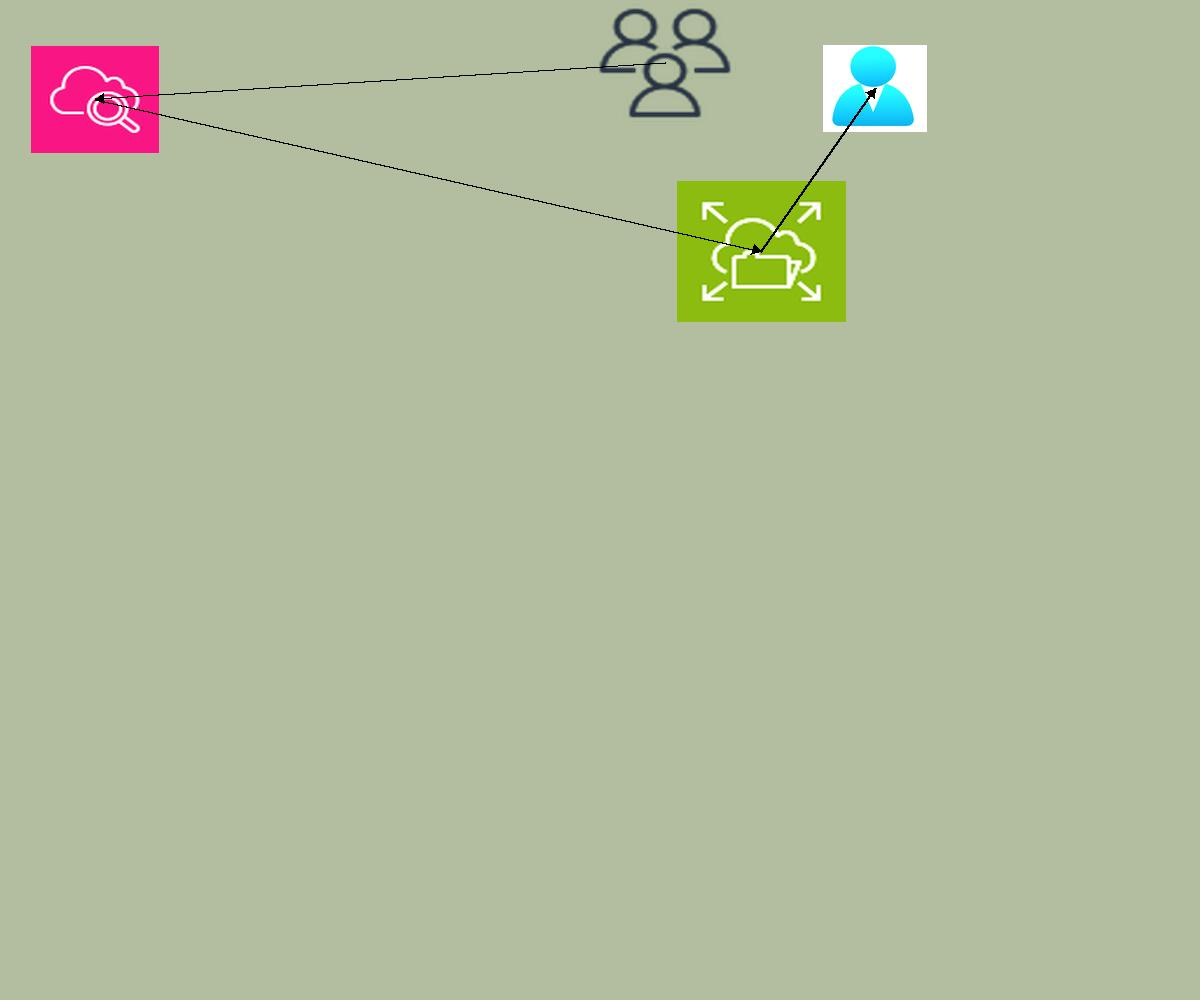AWS-CloudWatch: (31, 46, 159, 153)
AWS-EFS: (677, 181, 846, 322)
AWS-Res_Users: (594, 4, 736, 122)
Azure_users: (823, 45, 927, 132)
